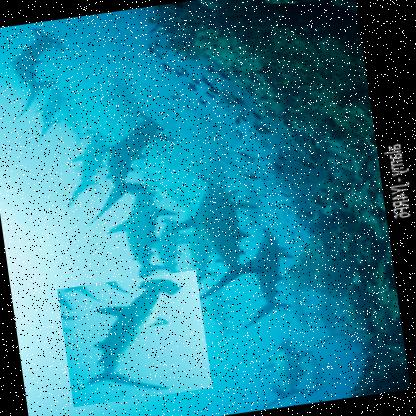hammerhead_Shark: (56, 270, 212, 408)
